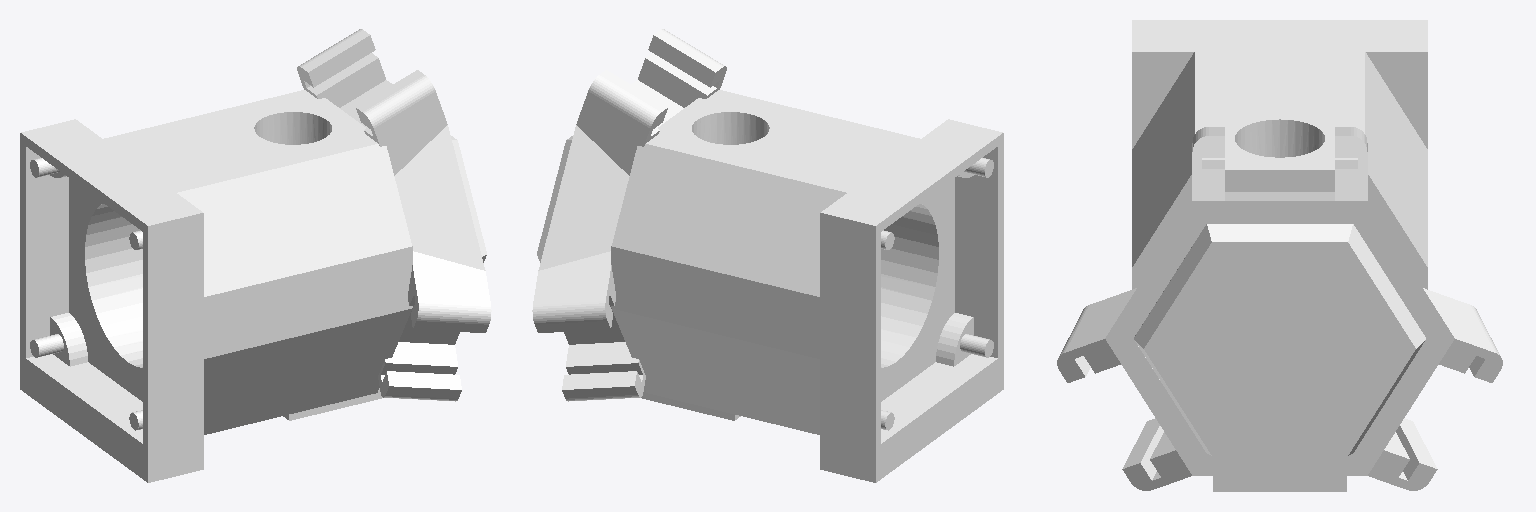
robot.urdf — digit:
<?xml version="1.0" ?>
<robot name="digit">
  <link concave="yes" name="baseLink">
    <inertial>
      <origin rpy="0 0 0" xyz="0 0 0"/>
       <mass value=".1"/>
       <inertia ixx="1" ixy="0" ixz="0" iyy="1" iyz="0" izz="1"/>
    </inertial>
    <visual>
      <origin rpy="0 0 0" xyz="0 0 0"/>
      <geometry>
				<mesh filename="meshes/THUsight.STL" scale="1 1 1"/>
      </geometry>
       <material name="white">
        <color rgba="1 1 1 1"/>
      </material>
    </visual>
    <collision concave="yes">
      <origin rpy="0 0 0" xyz="0 0 0"/>
     <geometry>
				<mesh filename="meshes/THUsight.STL" scale="1 1 1"/>
      </geometry>
    </collision>
  </link>
</robot>

--- Facts derived from the render (not from the file) ---
3 views of the same robot in one strip: view 1: azimuth 30°, elevation 25°; view 2: azimuth 150°, elevation 25°; view 3: azimuth 270°, elevation 25° (orthographic).
Robot: digit — 1 links, 0 joints (none); root link baseLink; default pose: all joints at 0.
Visible links, largest first — view 1: baseLink; view 2: baseLink; view 3: baseLink.
Link boxes in pixels (bbox=[...]): baseLink: bbox=[20, 29, 491, 482]; baseLink: bbox=[532, 29, 1003, 482]; baseLink: bbox=[1057, 20, 1502, 491].
Bounding box of the posed robot: 0.056 × 0.0543 × 0.049 m (x, y, z).
1 mesh visuals loaded from 1 distinct referenced files (1 binary STL).